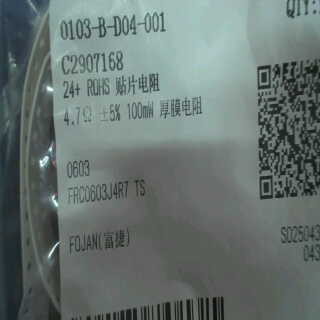4.7R: (62, 102, 95, 131)
